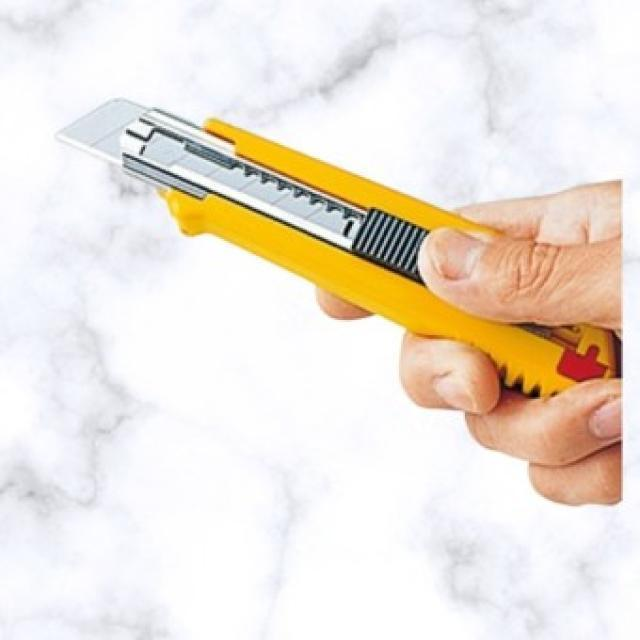cutter: (42, 64, 632, 418)
